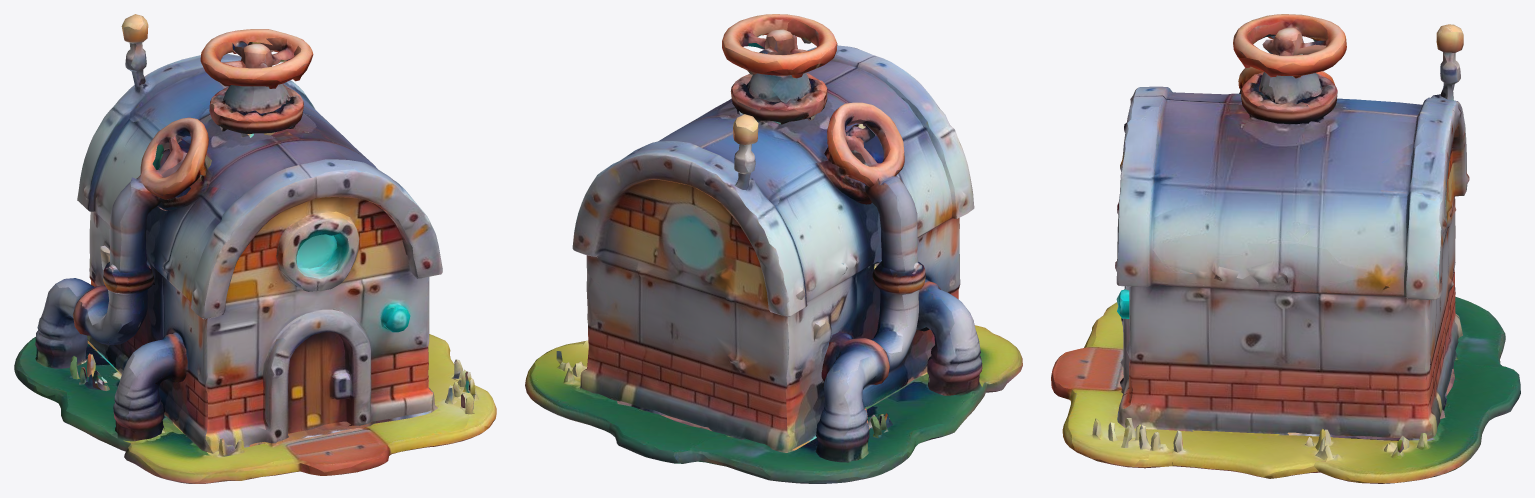
The model's file is pumphouse.glb.
The picture shows the model from 3 angles, left to right: view 1: azimuth 30°, elevation 25°; view 2: azimuth 150°, elevation 25°; view 3: azimuth 270°, elevation 25°; orthographic projection. The views are drawn at different scales.
Parts seen in each view (by area): view 1: pumphouse_s51; view 2: pumphouse_s51; view 3: pumphouse_s51.
Boxes of the visible parts, x1,y1,x2,y2 form: pumphouse_s51: [14, 14, 496, 483]; pumphouse_s51: [525, 14, 1022, 483]; pumphouse_s51: [1051, 14, 1520, 483].
Size of the model in its own units: 0.9629 by 0.8355 by 1.
1 material, 1 textured.
